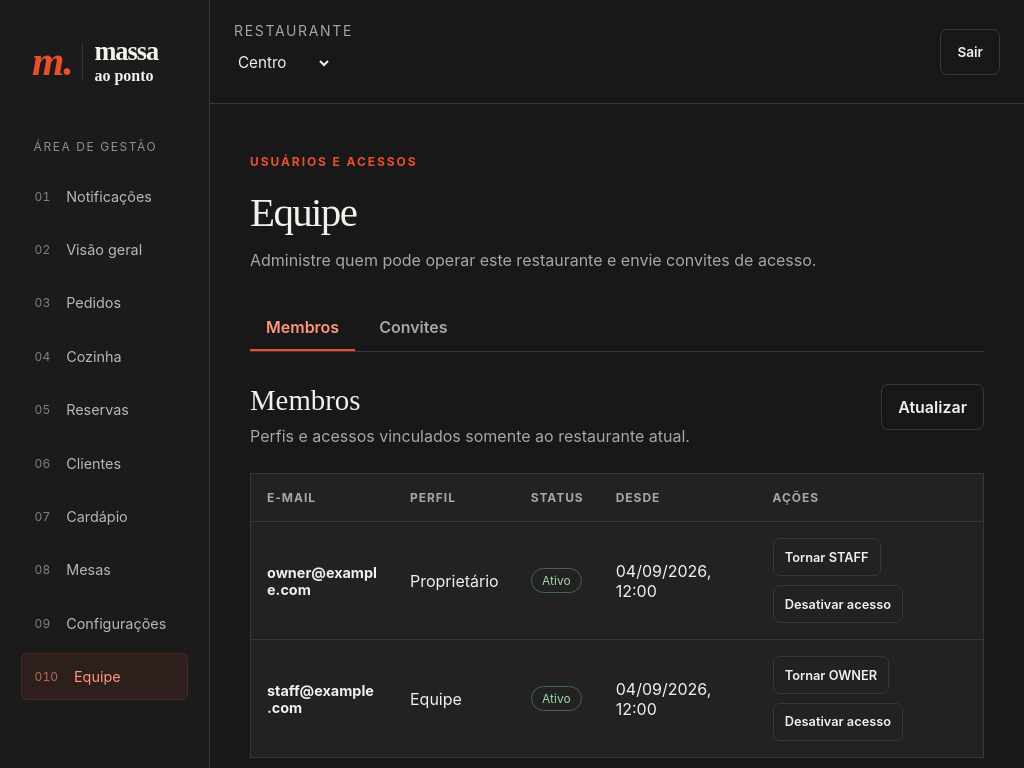
Test: Users and Memberships UI › renders pending, accepted, revoked and expired from timestamps
The image size is (1024, 768).
Step 1. Click the button "Convites" → (413, 328), box [363, 305, 464, 351]
(page scrolled)
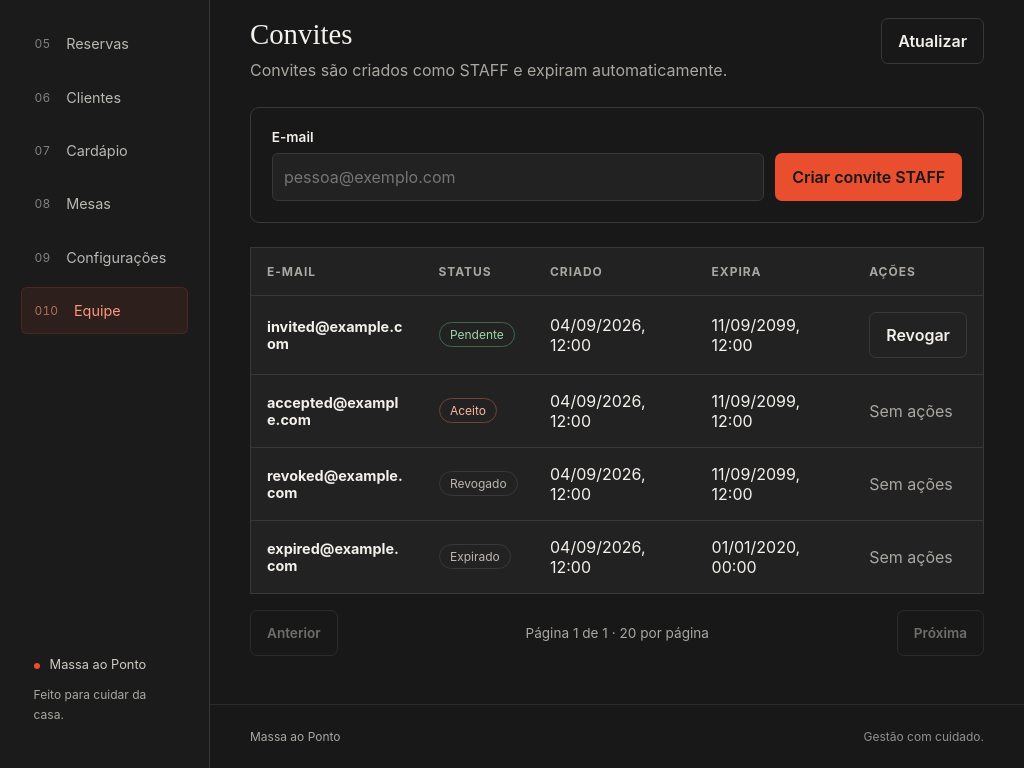
Result: the text "Pendente" is shown at [438, 322, 515, 348]
Result: the text "Aceito" is shown at [438, 398, 497, 424]
Result: the text "Revogado" is shown at [438, 472, 518, 496]
